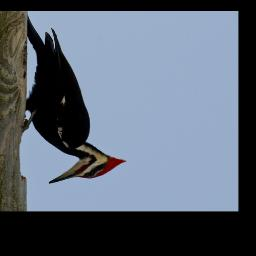Woodpecker: (23, 28, 130, 185)
